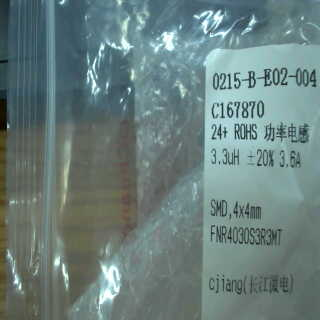3.3uH: (209, 137, 243, 171)
